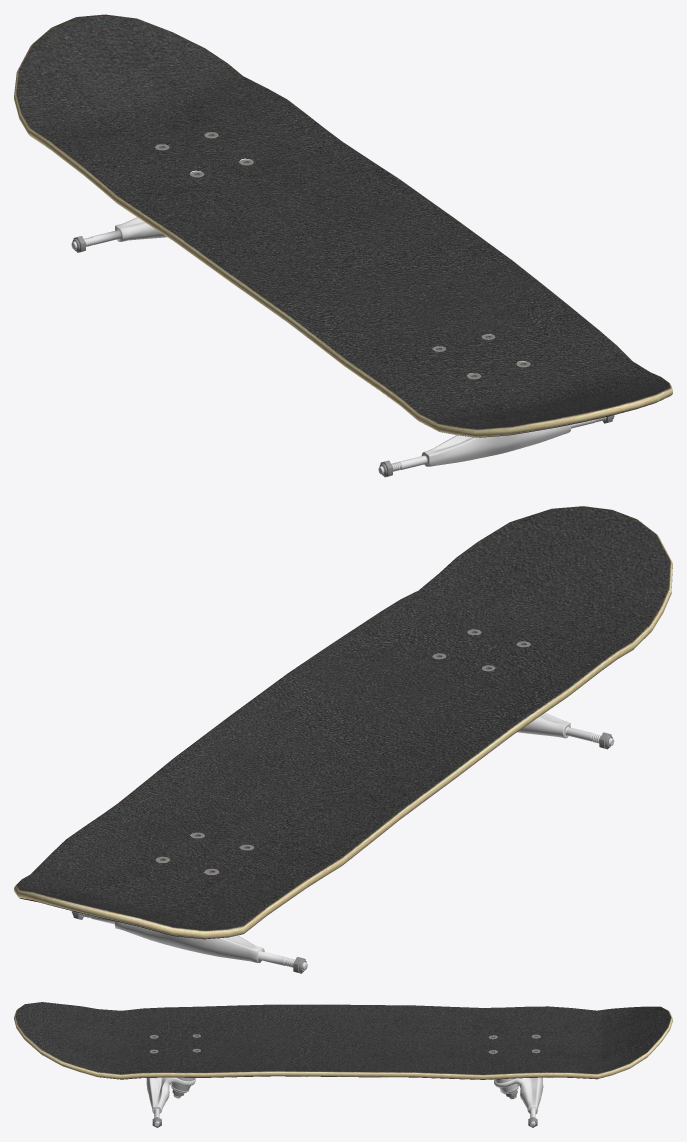
File: board.glb
3 views of the same model, one above another, from view 1: azimuth 30°, elevation 25°; view 2: azimuth 150°, elevation 25°; view 3: azimuth 270°, elevation 25° (orthographic). The views are drawn at different scales.
Parts seen in each view (by area): view 1: Plane.005_SKATE_TEXTURE_0.002, Cube.080; view 2: Plane.005_SKATE_TEXTURE_0.002, Cube.080; view 3: Plane.005_SKATE_TEXTURE_0.002, Cube.080.
Part boxes in pixels (bbox=[...]): Plane.005_SKATE_TEXTURE_0.002: bbox=[14, 14, 672, 437]; Cube.080: bbox=[71, 217, 614, 474]; Plane.005_SKATE_TEXTURE_0.002: bbox=[14, 506, 672, 939]; Cube.080: bbox=[71, 712, 614, 970]; Plane.005_SKATE_TEXTURE_0.002: bbox=[14, 1002, 672, 1079]; Cube.080: bbox=[146, 1077, 543, 1126].
Size of the model in its own units: 119 by 65.53 by 476.
Materials: 30 (29 with a texture image).
